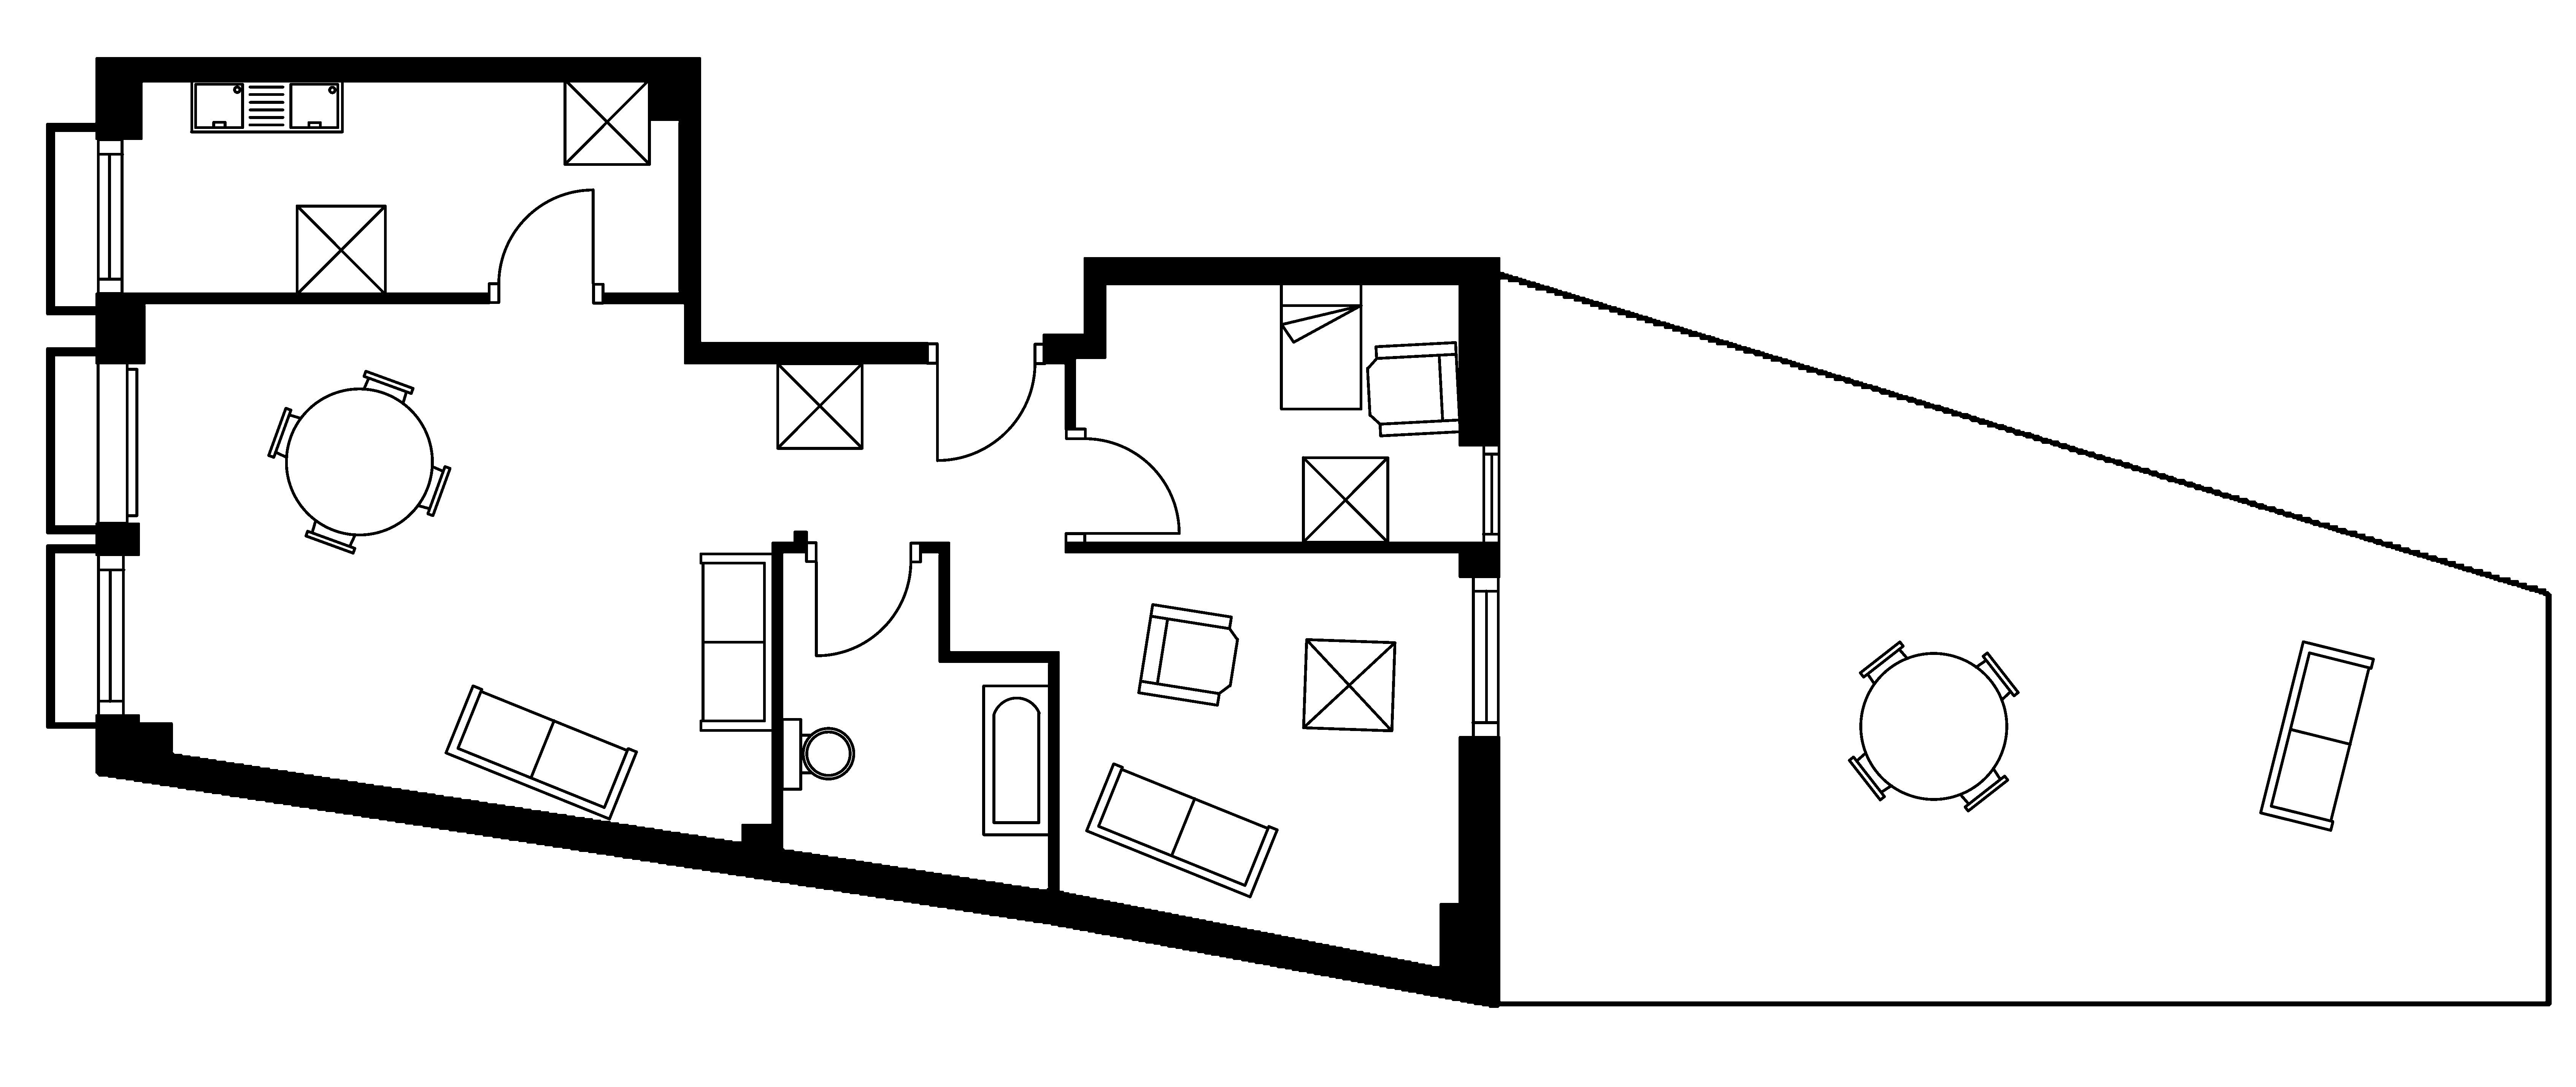armchair: (1137, 602, 1239, 707), (1365, 340, 1462, 437)
bed: (1280, 281, 1362, 411)
coffee_table: (1301, 638, 1396, 732), (294, 204, 388, 296), (562, 77, 651, 166), (775, 362, 864, 451), (1301, 456, 1390, 544)
large_sink: (780, 717, 854, 791)
large_sofa: (1084, 761, 1278, 900), (444, 684, 637, 821), (2259, 640, 2376, 832), (698, 553, 774, 732)
round_table: (266, 368, 452, 554), (1847, 640, 2019, 812)
tub: (981, 684, 1051, 837)
twin_sink: (189, 77, 343, 133)
